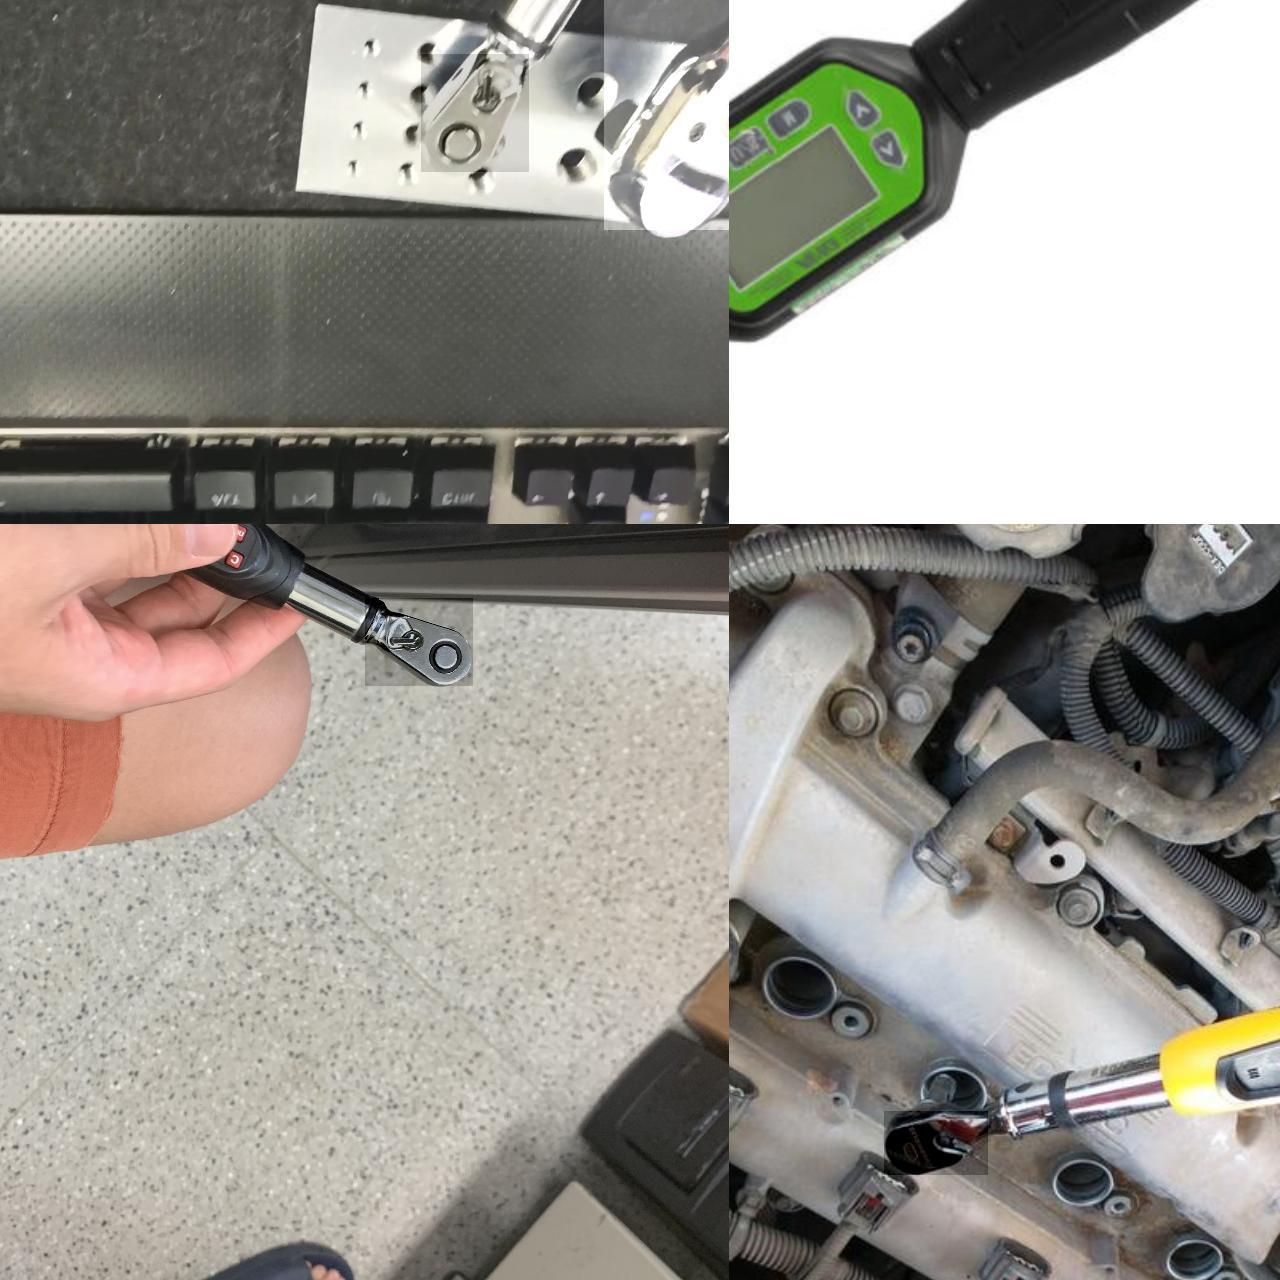Tool: (604, 0, 729, 230), (421, 54, 529, 172), (365, 598, 473, 686), (884, 1111, 988, 1175)
